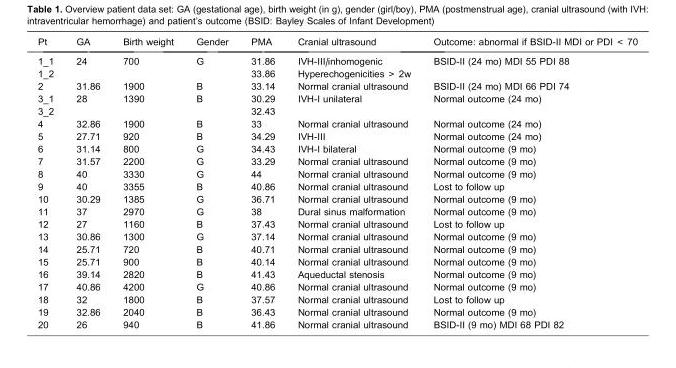table: (36, 36, 637, 329)
table column: (421, 36, 637, 329), (285, 36, 421, 329), (110, 36, 184, 329), (184, 36, 238, 329), (238, 36, 285, 329), (64, 36, 110, 329), (36, 36, 64, 329)
table column header: (36, 36, 637, 51)
table row: (36, 51, 637, 67), (36, 36, 637, 51), (36, 79, 637, 92), (36, 104, 637, 117), (36, 117, 637, 130), (36, 142, 637, 155), (36, 167, 637, 180), (36, 192, 637, 205), (36, 217, 637, 230), (36, 242, 637, 255), (36, 255, 637, 268), (36, 280, 637, 293), (36, 305, 637, 318), (36, 67, 637, 79), (36, 92, 637, 104), (36, 130, 637, 142), (36, 155, 637, 167), (36, 180, 637, 192), (36, 205, 637, 217), (36, 230, 637, 242), (36, 268, 637, 280), (36, 293, 637, 305), (36, 318, 637, 329)
